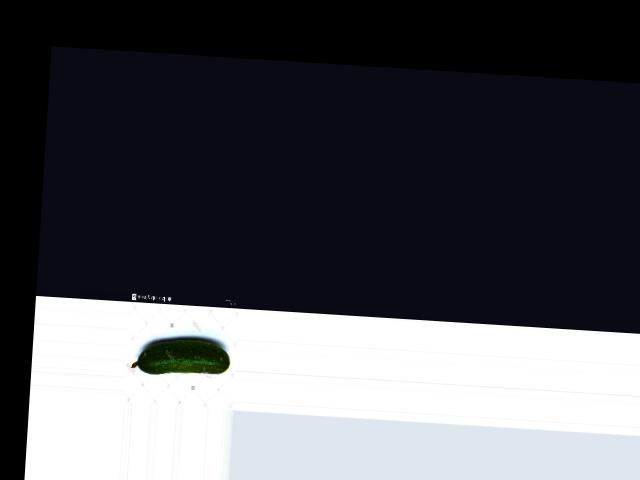cucumber: (131, 335, 232, 379)
